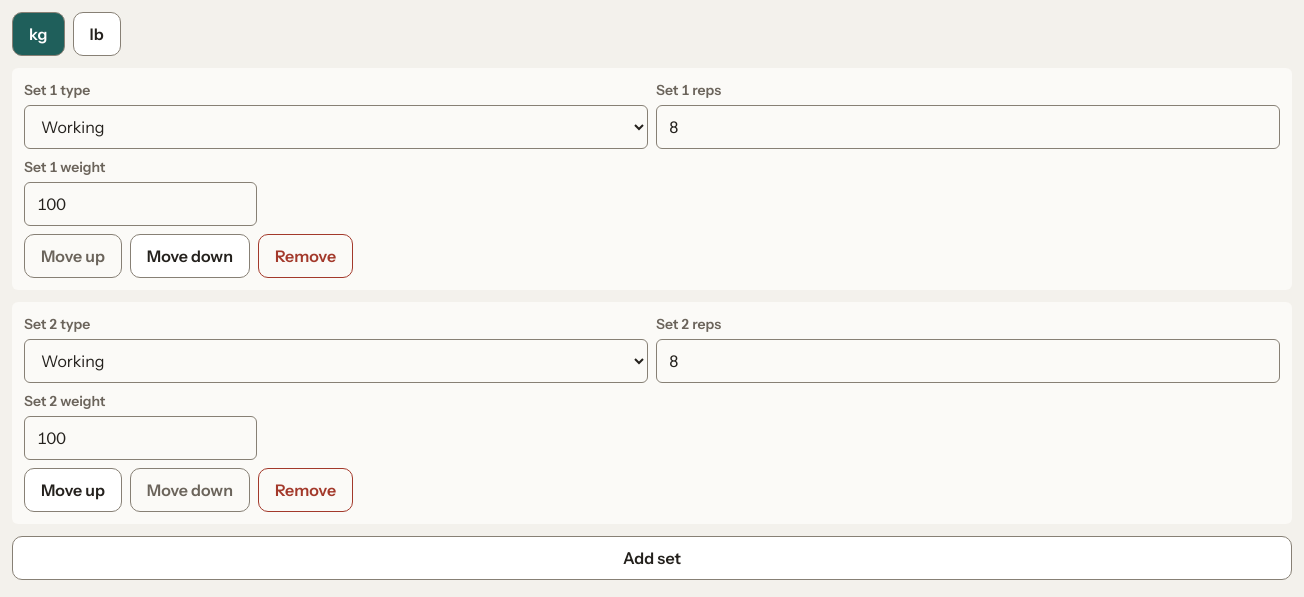
Test: 10.2 AC13 — plan rows › Remove is disabled on the only row, with the reason in text
Check: the text "A plan needs at least one set" is not shown
Click the button with aria-label "Remove, set 1".
click(306, 256)  # box [258,234,353,278]
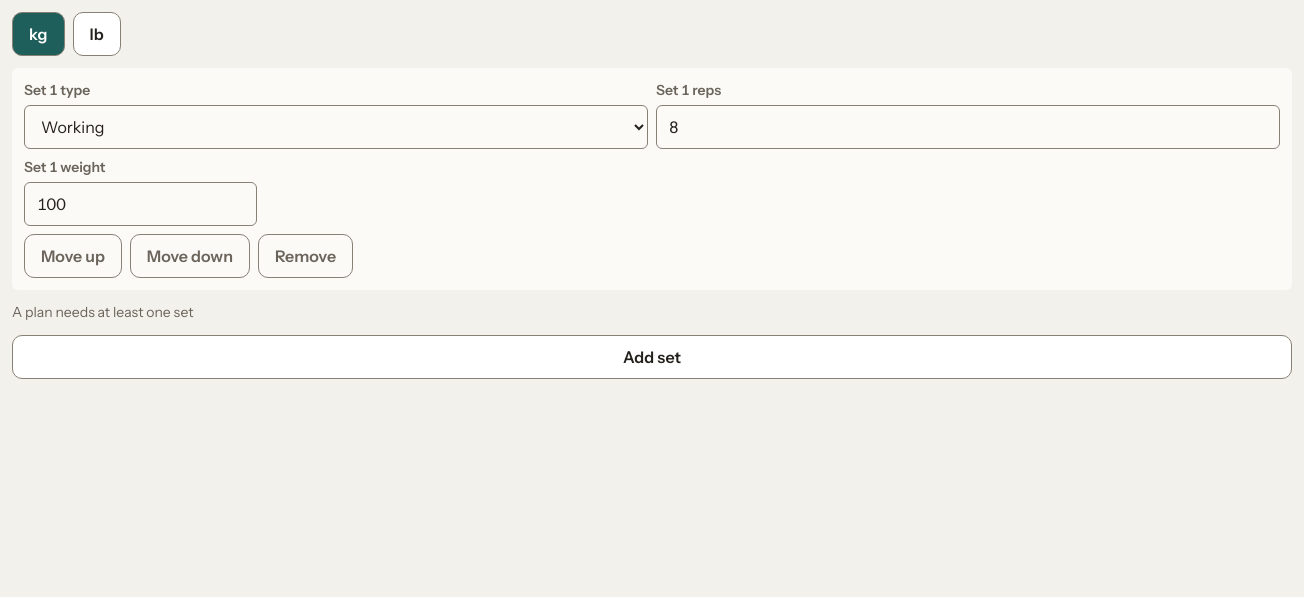
Check: the number of elements "Set 1 type Set 1 reps Set 1 weight Move up Move down Remove" is 1, box [24,80,1280,278]
Check: the button with aria-label "Remove, set 1" is disabled, box [258,234,353,278]
